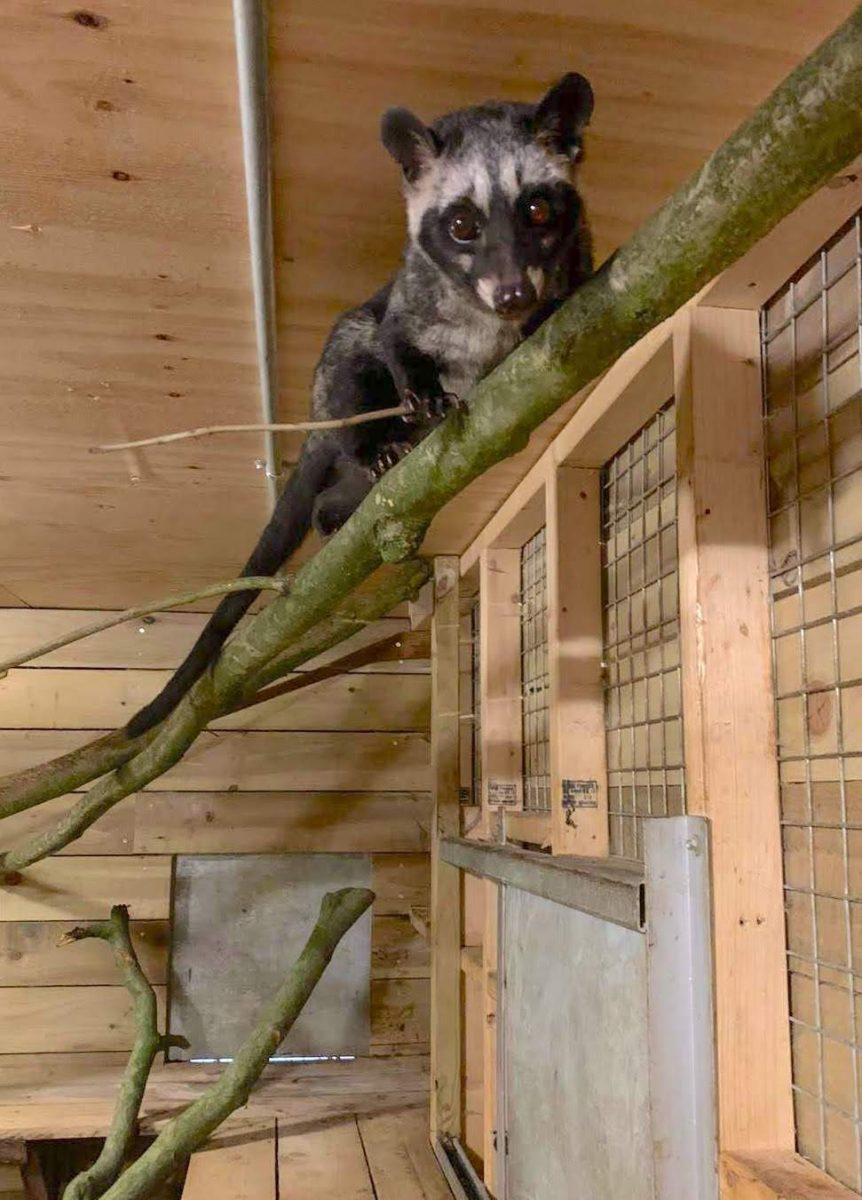Civet: (286, 69, 679, 531)
